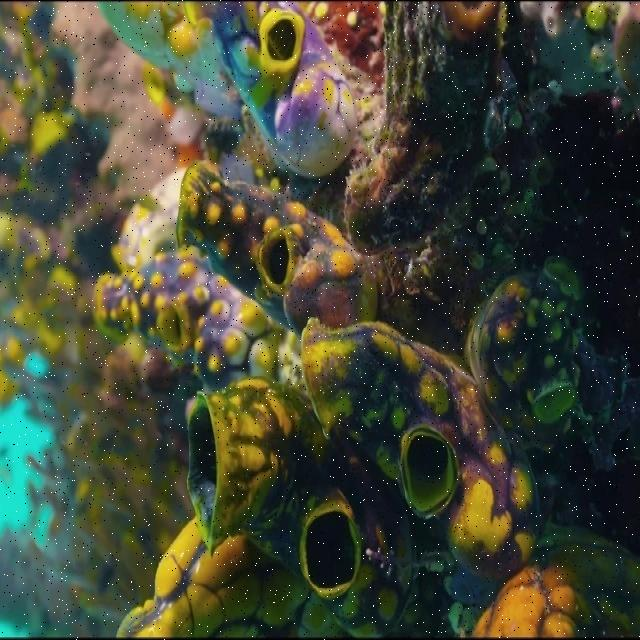reefs: (90, 162, 550, 638), (93, 3, 357, 177), (347, 0, 506, 254), (473, 259, 639, 460), (116, 518, 317, 637)
